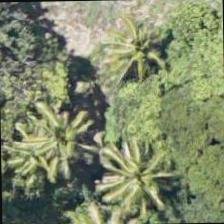Kelapa_Sawit: (89, 132, 181, 224), (5, 103, 96, 195)
